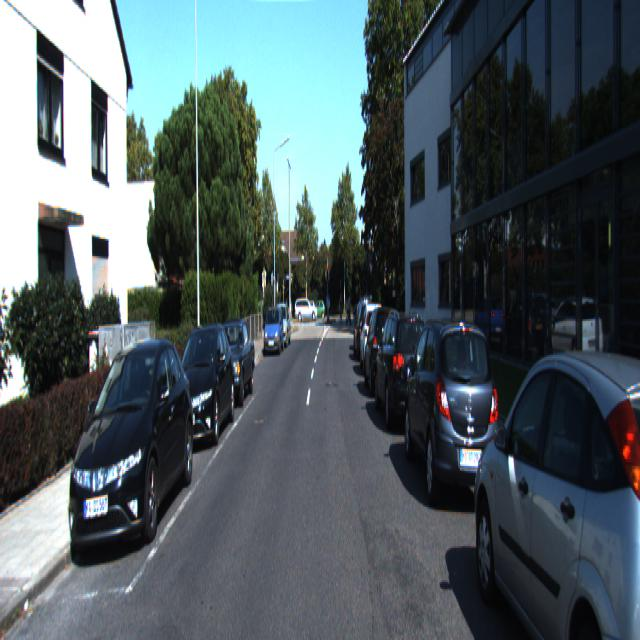Car: (472, 331, 640, 638), (66, 330, 195, 562), (403, 312, 505, 520), (168, 319, 235, 451), (373, 302, 435, 437), (206, 316, 257, 408), (364, 301, 403, 399), (359, 300, 388, 374), (353, 301, 378, 363), (263, 306, 284, 356)
